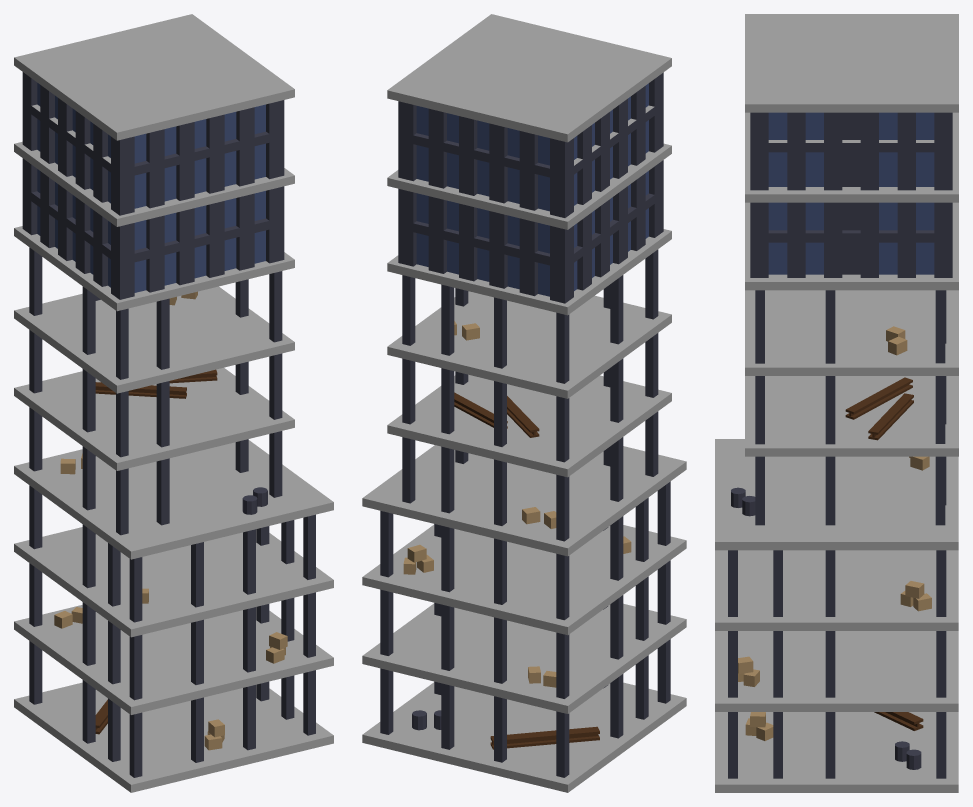
Rendered from Kato_03.fbx.
3 views of the same model, side by side, from view 1: azimuth 30°, elevation 25°; view 2: azimuth 150°, elevation 25°; view 3: azimuth 270°, elevation 25° (orthographic). The views are drawn at different scales.
Visible parts, largest first — view 1: pCube61, pCube66, pCube47, pCube46, pCube40, pCube45, pCube60, pCube59, pCube57, pCube41, pCube67, pCube65 (+12 smaller); view 2: pCube61, pCube66, pCube45, pCube47, pCube46, pCube40, pCube60, pCube59, pCube41, pCube53, pCube49, pCube57 (+10 smaller); view 3: pCube61, pCube66, pCube47, pCube45, pCube46, pCube60, pCube40, pCube59, pCube65, pCube67, pCube68, pCube69 (+8 smaller).
Part boxes in pixels (x1,y1,x2,y2): pCube61: [22, 72, 284, 299]; pCube66: [14, 14, 294, 140]; pCube47: [14, 440, 333, 559]; pCube46: [14, 527, 333, 637]; pCube40: [14, 682, 333, 792]; pCube45: [14, 605, 333, 714]; pCube60: [14, 286, 294, 393]; pCube59: [14, 367, 294, 470]; pCube57: [82, 286, 95, 743]; pCube41: [29, 247, 42, 704]; pCube67: [14, 141, 294, 226]; pCube65: [14, 226, 294, 311]; pCube61: [398, 72, 663, 303]; pCube66: [387, 14, 671, 142]; pCube45: [362, 603, 686, 713]; pCube47: [362, 445, 686, 556]; pCube46: [362, 524, 686, 635]; pCube40: [362, 682, 686, 792]; pCube60: [387, 291, 671, 398]; pCube59: [387, 374, 671, 477]; pCube41: [556, 312, 569, 777]; pCube53: [441, 284, 454, 749]; pCube49: [494, 297, 506, 762]; pCube57: [610, 275, 623, 738]; pCube61: [750, 112, 952, 277]; pCube66: [745, 14, 958, 112]; pCube47: [715, 439, 958, 550]; pCube45: [715, 631, 958, 711]; pCube46: [715, 550, 958, 630]; pCube60: [745, 290, 958, 375]; pCube40: [715, 712, 958, 792]; pCube59: [745, 376, 958, 456]; pCube65: [745, 202, 958, 290]; pCube67: [745, 112, 958, 202]; pCube68: [825, 290, 835, 525]; pCube69: [935, 290, 945, 525].
Bounding box in the file's own units: 31.52 × 96.48 × 31.53.
